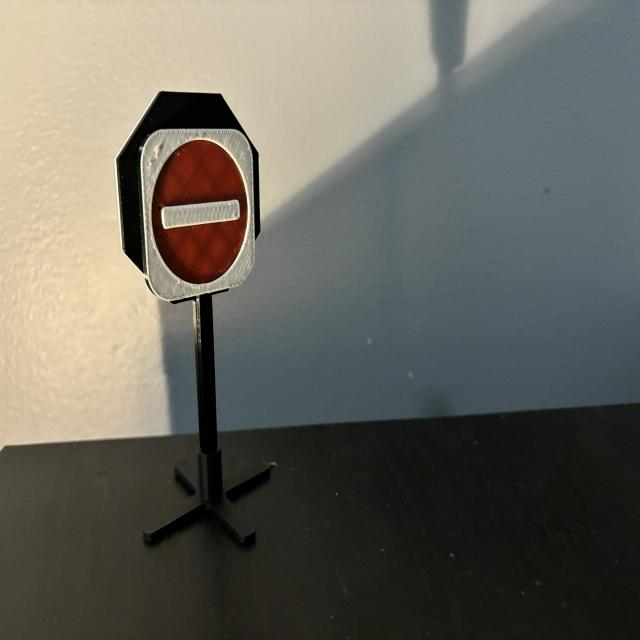sign_noentry: (142, 131, 255, 302)
